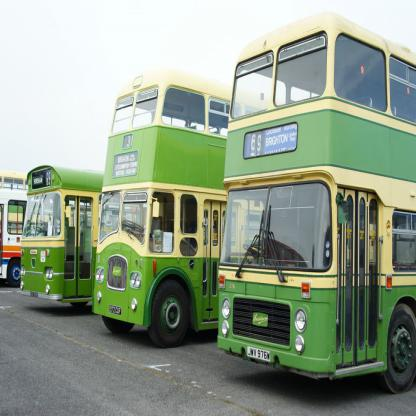Bus: (0, 10, 416, 396)
